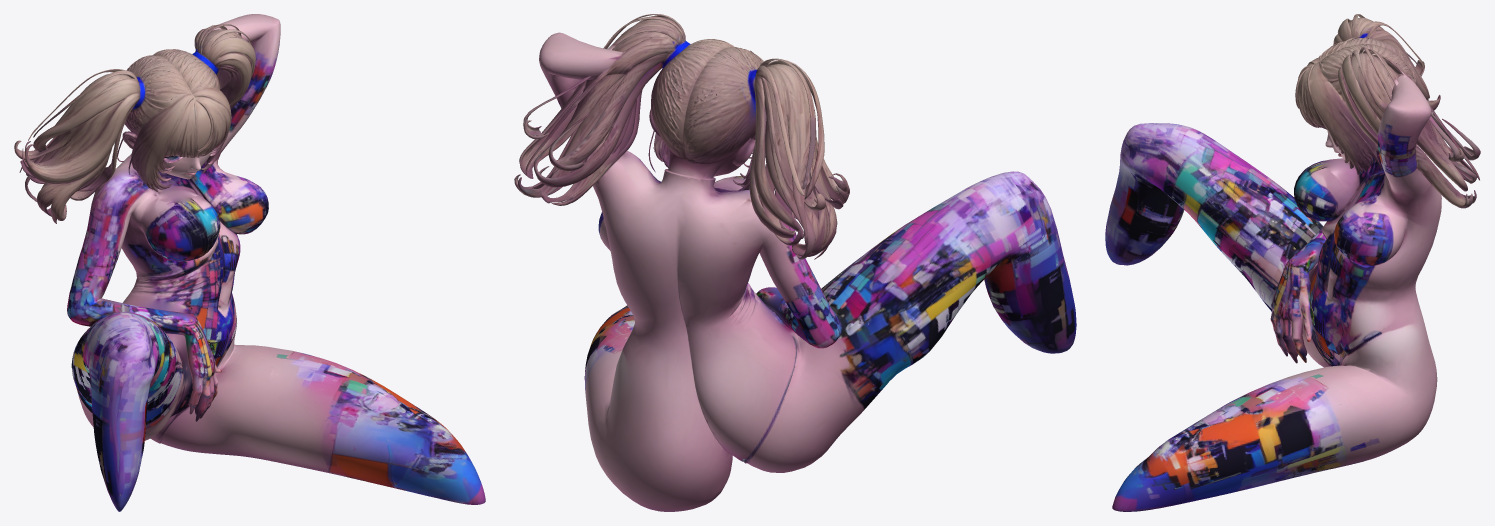
File: 01a1acea-a798-79ec-83cc-0ce3b29b92bf.glb
3 views of the same model, side by side, from view 1: azimuth 30°, elevation 25°; view 2: azimuth 150°, elevation 25°; view 3: azimuth 270°, elevation 25° (orthographic). The views are drawn at different scales.
Visible parts, largest first — view 1: node_0; view 2: node_0; view 3: node_0.
Part boxes in pixels (left/top/right/bottom): node_0: left=14, top=14, right=485, bottom=511; node_0: left=514, top=14, right=1076, bottom=511; node_0: left=1105, top=14, right=1480, bottom=511.
Bounding box in the file's own units: 0.7199 × 0.7518 × 0.6459.
Materials: 1 (1 with a texture image).
